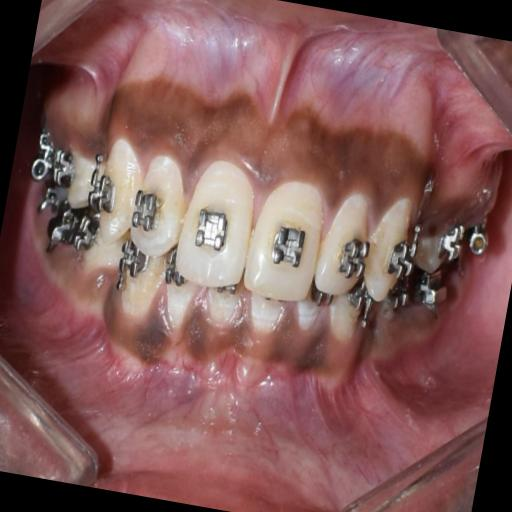correct_brace: (123, 180, 167, 242), (186, 203, 234, 257), (264, 216, 312, 270), (333, 231, 373, 285)
incorrect_brace: (310, 180, 383, 306), (120, 146, 194, 263)
